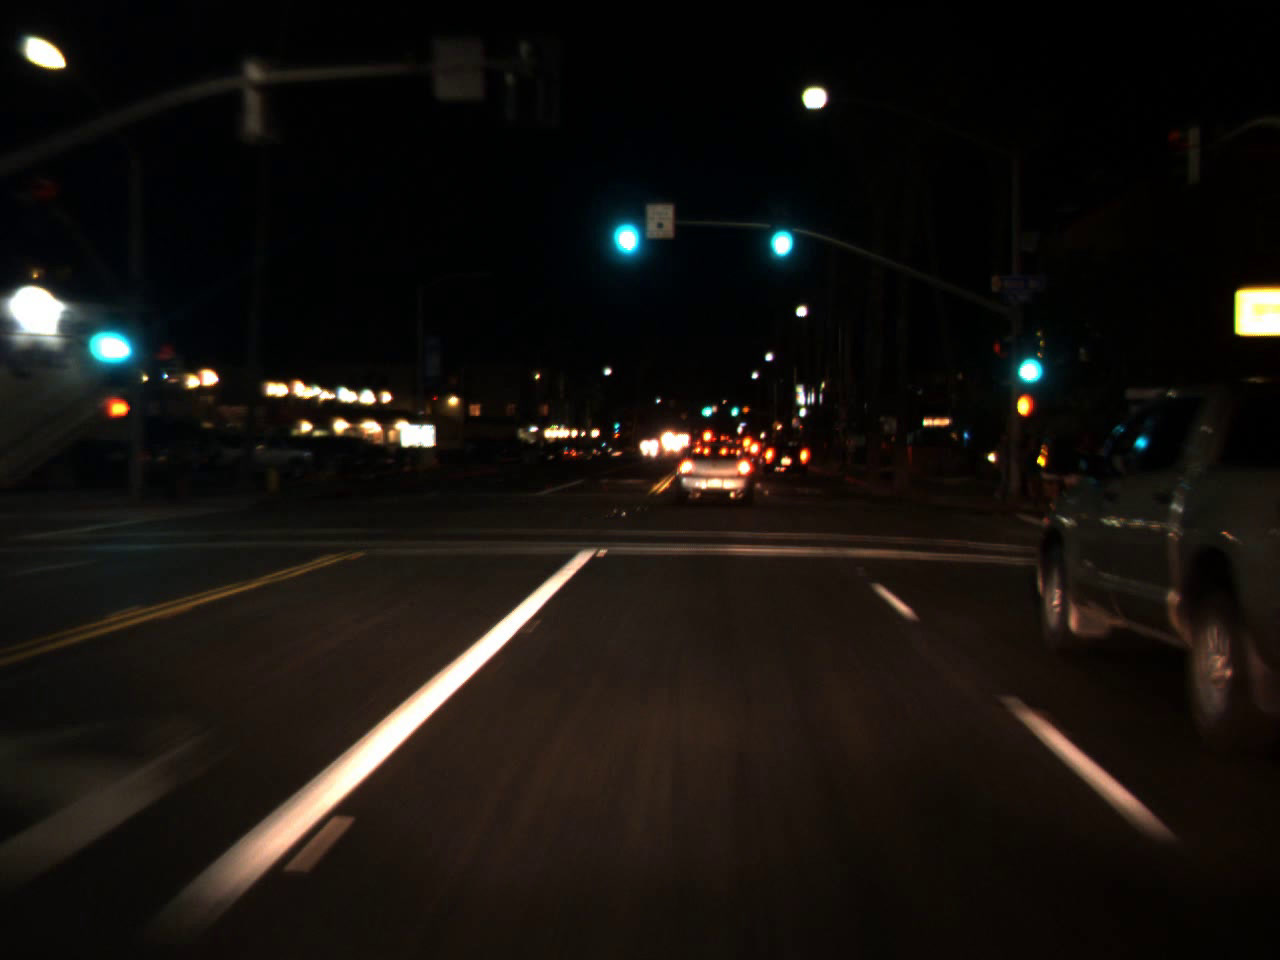go: (83, 295, 135, 373), (601, 183, 646, 267), (762, 196, 798, 268), (1009, 327, 1048, 393), (697, 396, 715, 419), (729, 396, 739, 419), (613, 418, 620, 430)
